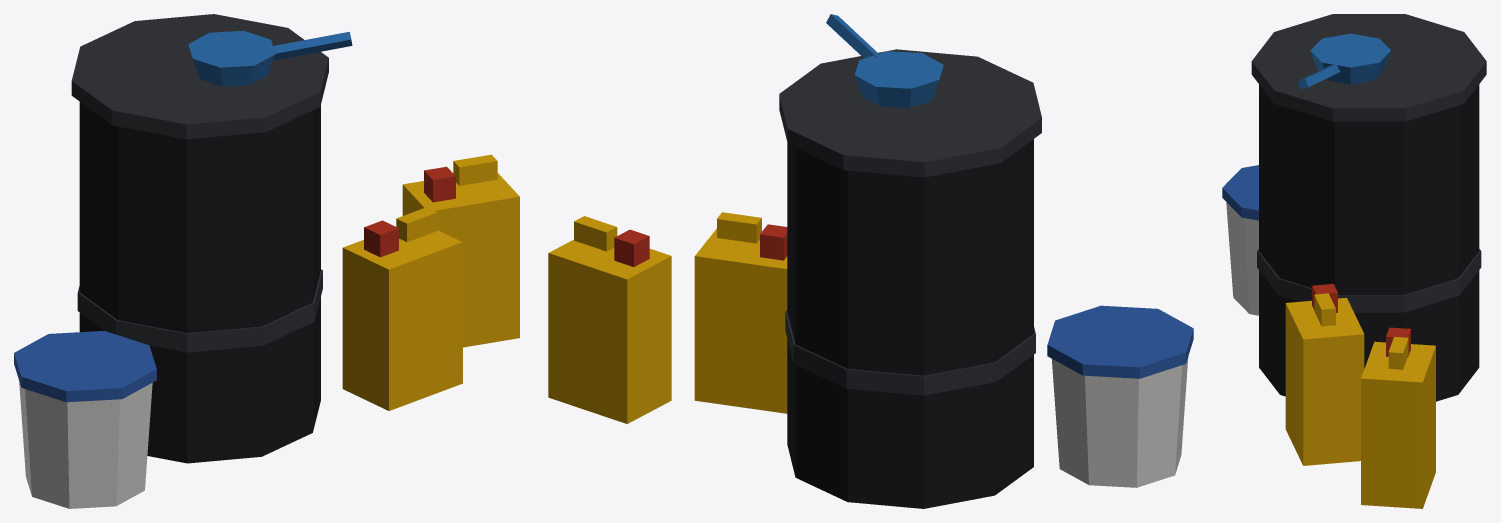
The model's file is prop_drum-jerrycans.884f33bea6b6.glb.
3 views of the same model, side by side, from view 1: azimuth 30°, elevation 25°; view 2: azimuth 150°, elevation 25°; view 3: azimuth 270°, elevation 25° (orthographic). The views are drawn at different scales.
Visible parts, largest first — view 1: body; view 2: body; view 3: body.
Part boxes in pixels (box(x1,y1,x2,y2)): body: box(14, 14, 519, 508); body: box(548, 14, 1193, 508); body: box(1222, 14, 1486, 508).
Size of the model in its own units: 1.54 by 1.02 by 0.72.
